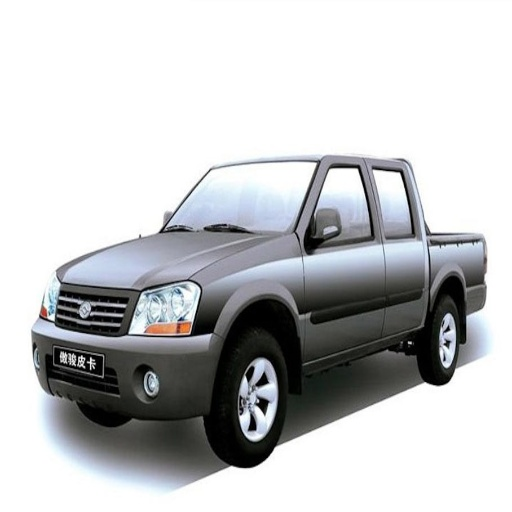back_glass: (370, 164, 408, 224), (383, 238, 400, 332)
back_right_light: (30, 279, 224, 422)
front_bumper: (160, 164, 317, 232)
front_glass: (303, 162, 384, 359)
front_left_door: (129, 278, 201, 333)
front_right_light: (58, 232, 273, 290)
tailgate: (399, 234, 488, 328)
trunk: (207, 328, 288, 466), (419, 299, 462, 383)
